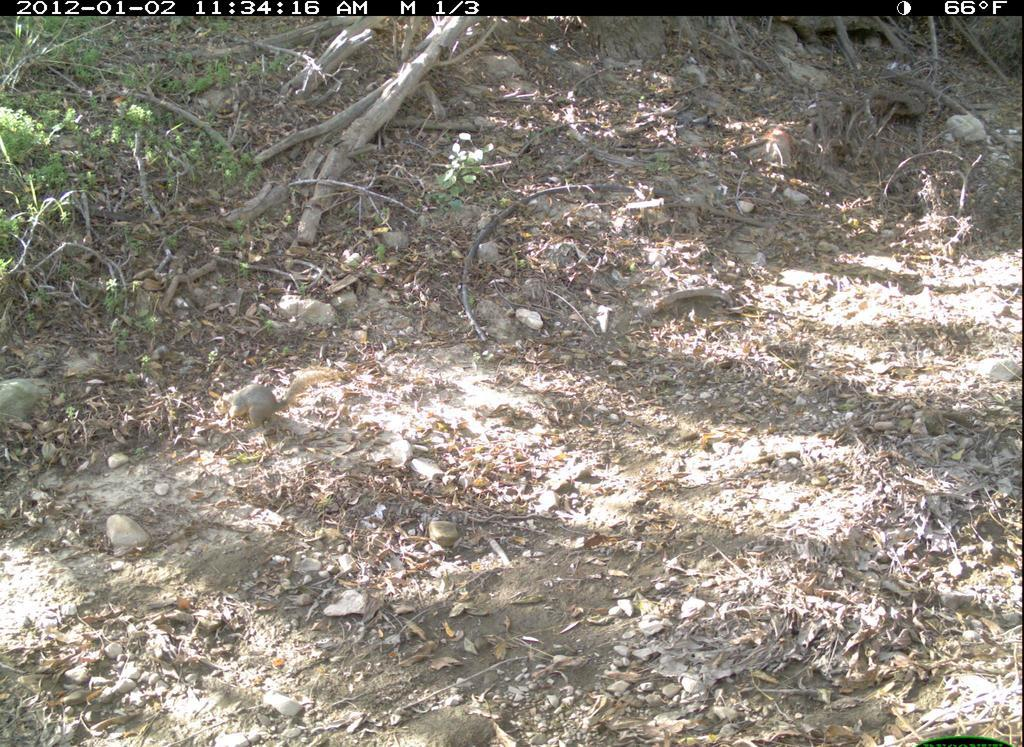squirrel: (205, 360, 354, 440)
